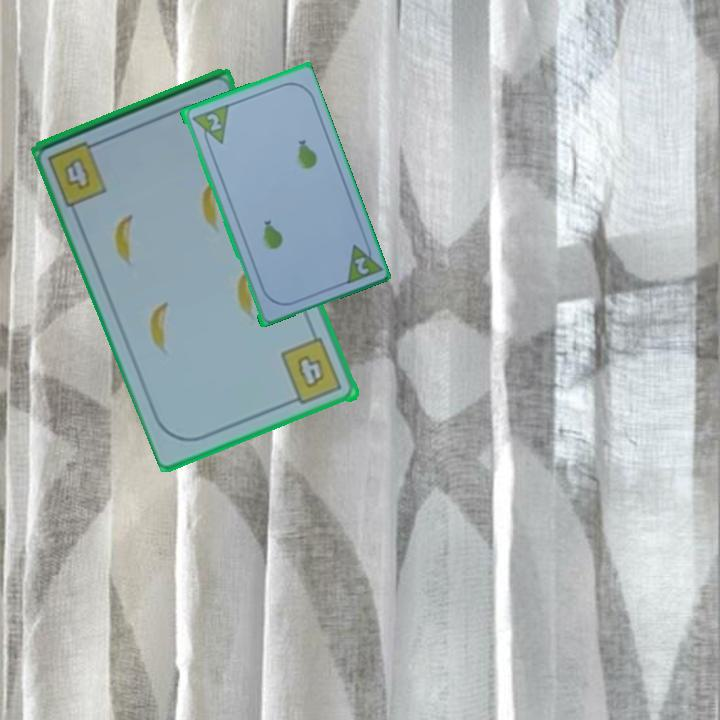2p: (203, 109, 224, 134), (350, 253, 371, 277)
4b: (278, 334, 346, 408), (44, 135, 111, 210)
